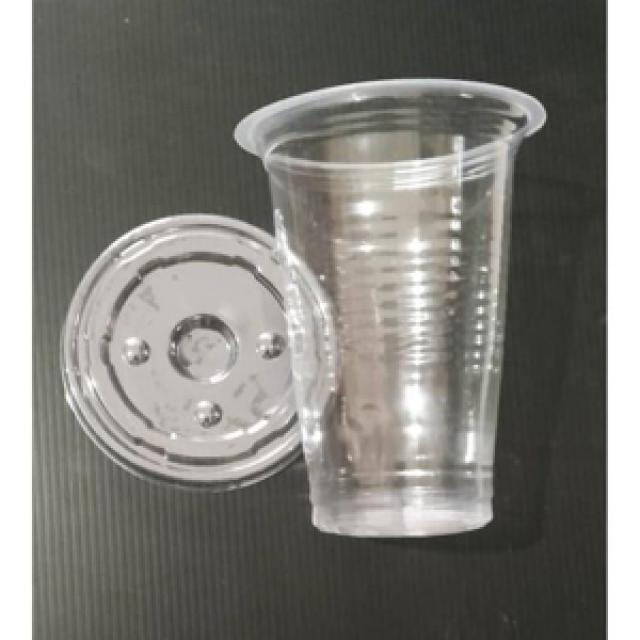plastic cup: (226, 66, 551, 546)
